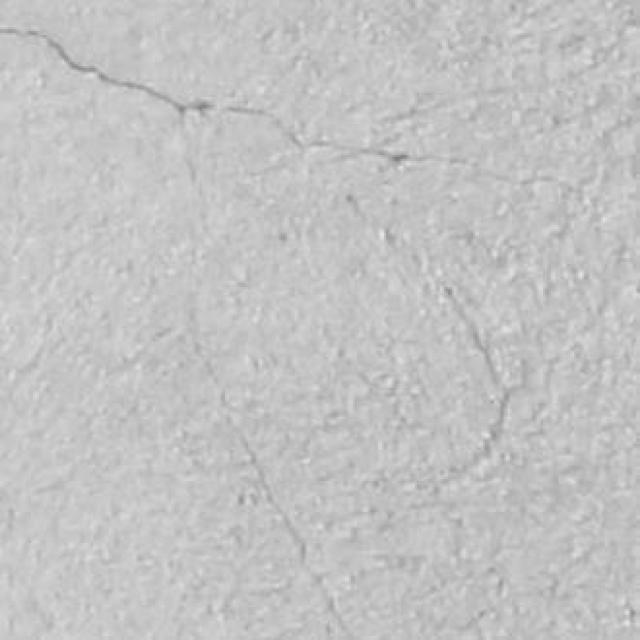crack: (0, 26, 579, 191), (229, 425, 354, 639), (237, 433, 354, 639), (0, 28, 215, 116), (439, 284, 527, 490)
